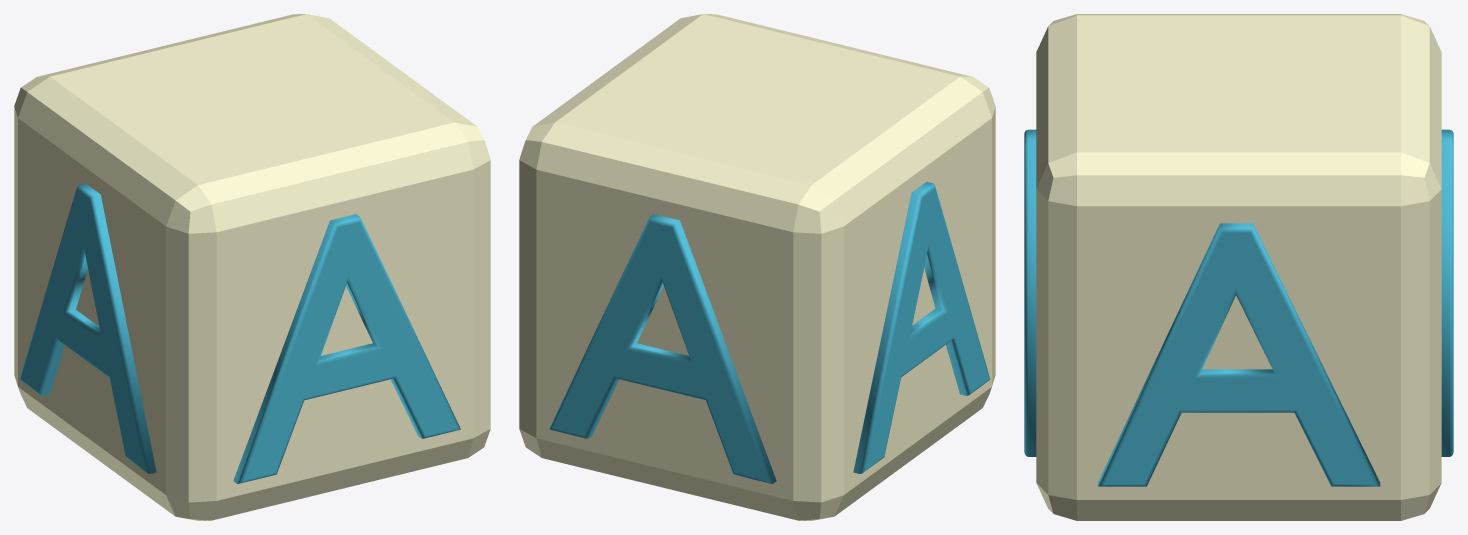
3 views of the same model, side by side, from view 1: azimuth 30°, elevation 25°; view 2: azimuth 150°, elevation 25°; view 3: azimuth 270°, elevation 25° (orthographic). The views are drawn at different scales.
Visible parts, largest first — view 1: A; view 2: A; view 3: A.
Boxes of the visible parts, x1,y1,x2,y2 form: A: (14, 14, 490, 520); A: (519, 14, 995, 520); A: (1024, 14, 1453, 520).
Size of the model in its own units: 212 by 200 by 212.
